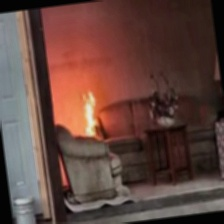fire: (74, 83, 110, 144)
